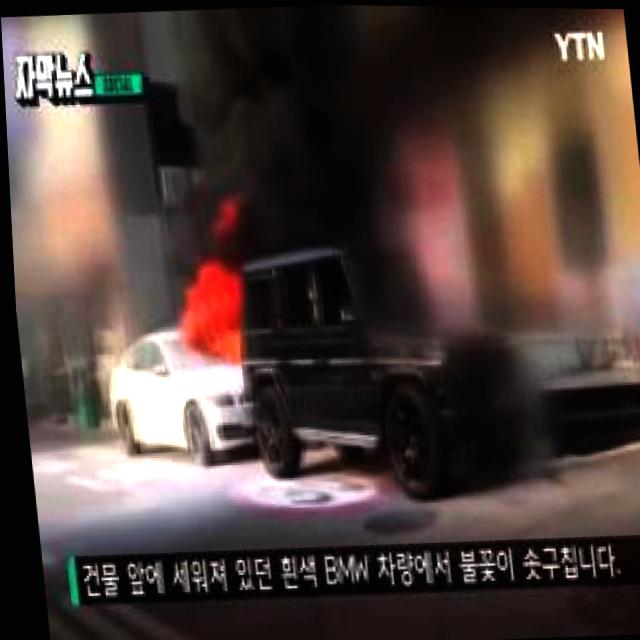helmet: (190, 296, 235, 362)
no_helmet: (160, 2, 338, 276)
